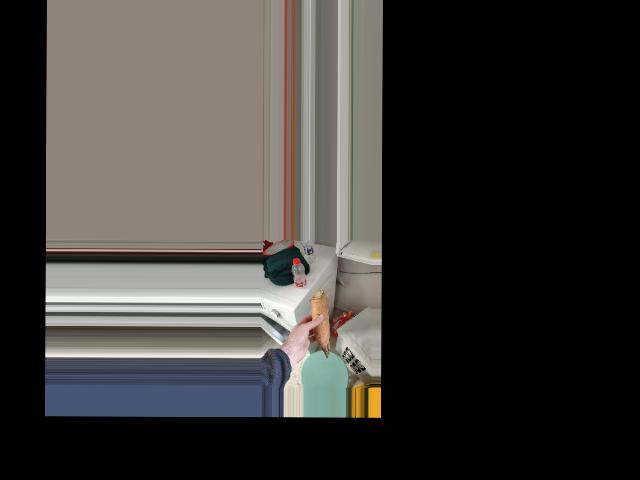sweet_potato: (308, 287, 327, 354)
